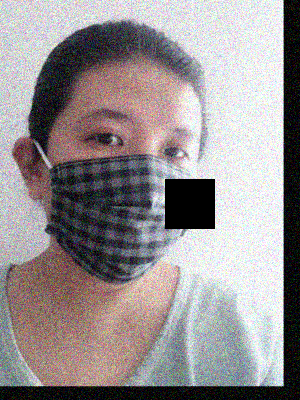with_mask: (43, 107, 202, 287)
